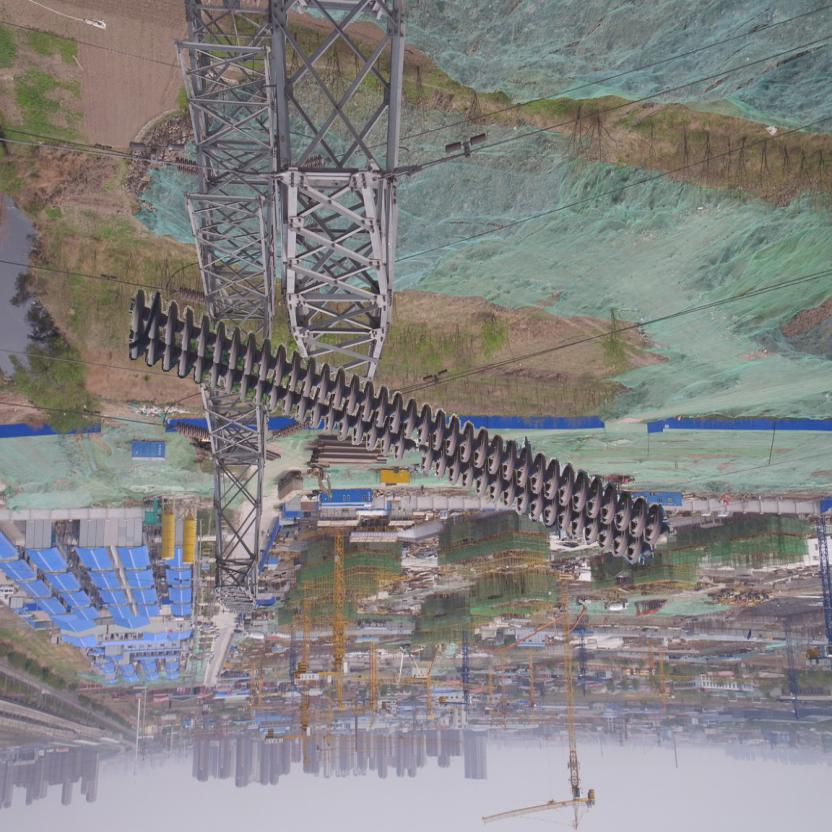defect: (391, 430, 437, 475)
